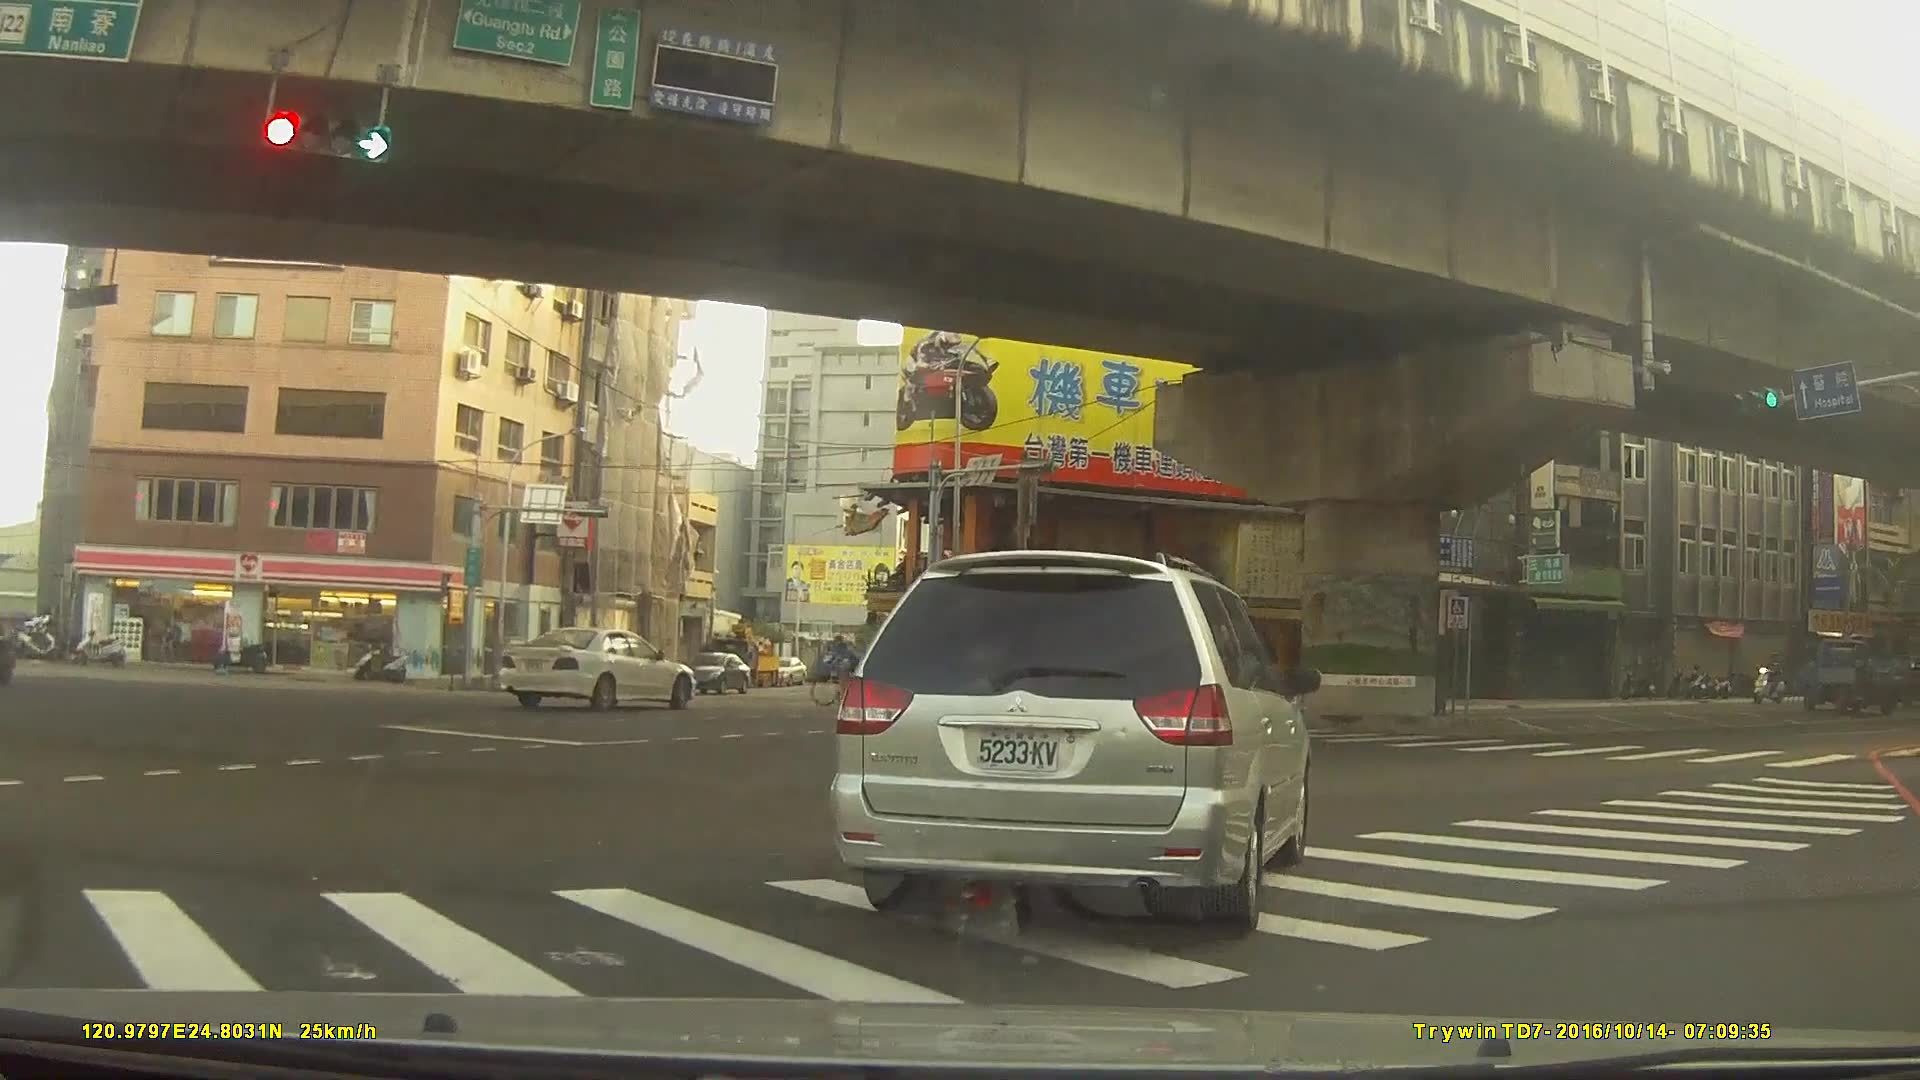rider: (809, 631, 885, 709), (1751, 650, 1789, 702), (1, 597, 21, 683)
vehicle: (826, 546, 1310, 937), (496, 623, 696, 714), (1797, 636, 1912, 717), (677, 649, 751, 691), (766, 655, 806, 686)
